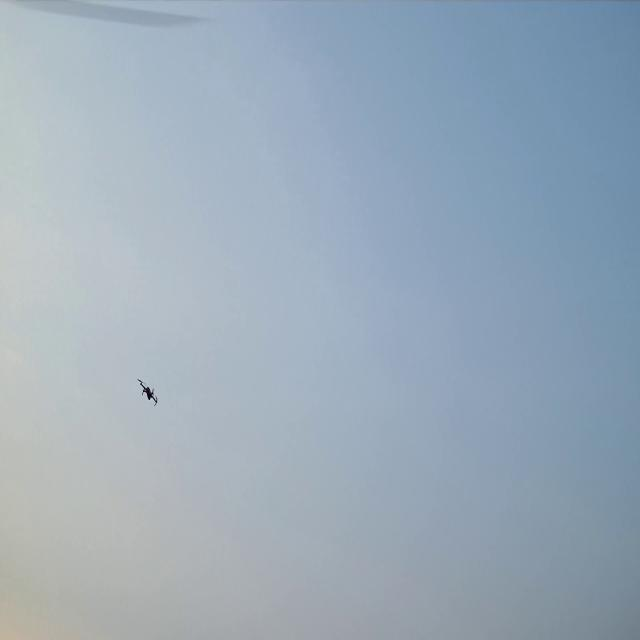UAV: (139, 380, 157, 404)
